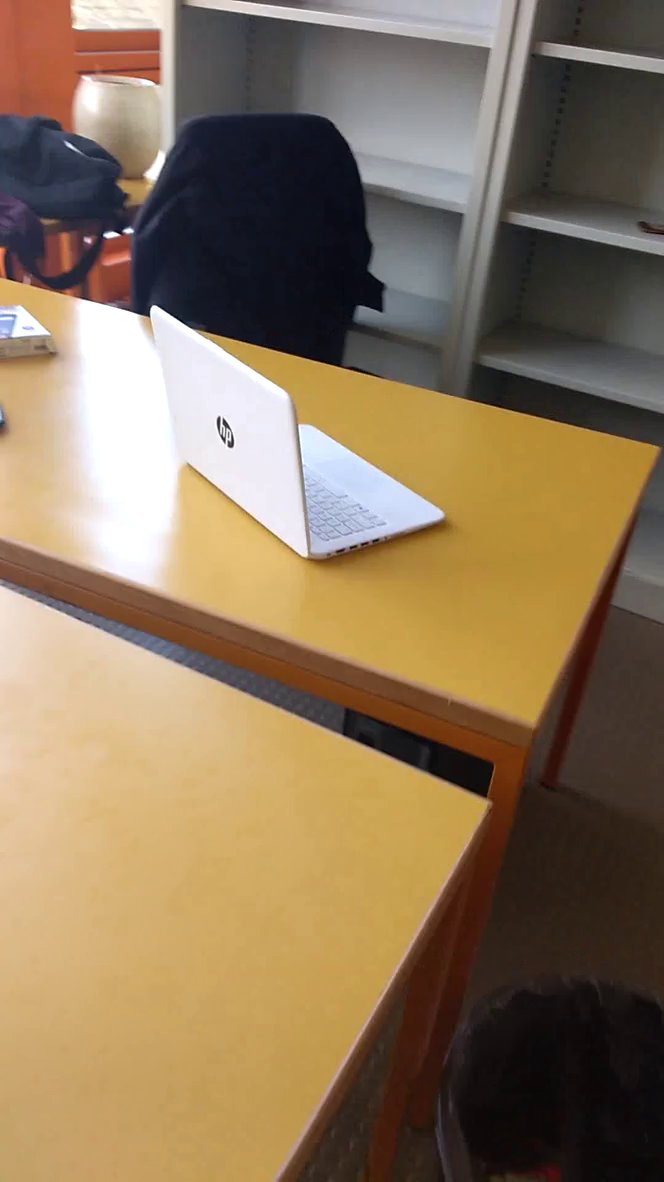chair: (137, 106, 392, 384)
laptop: (148, 295, 462, 572)
